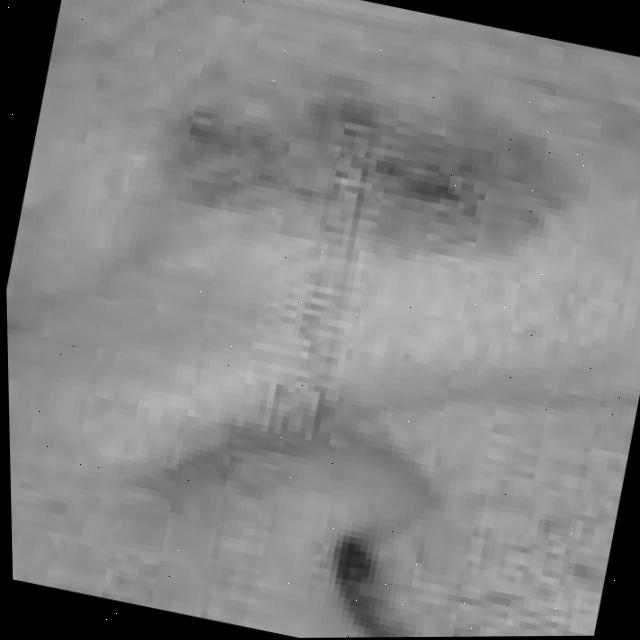Melasma: (196, 83, 576, 279)
